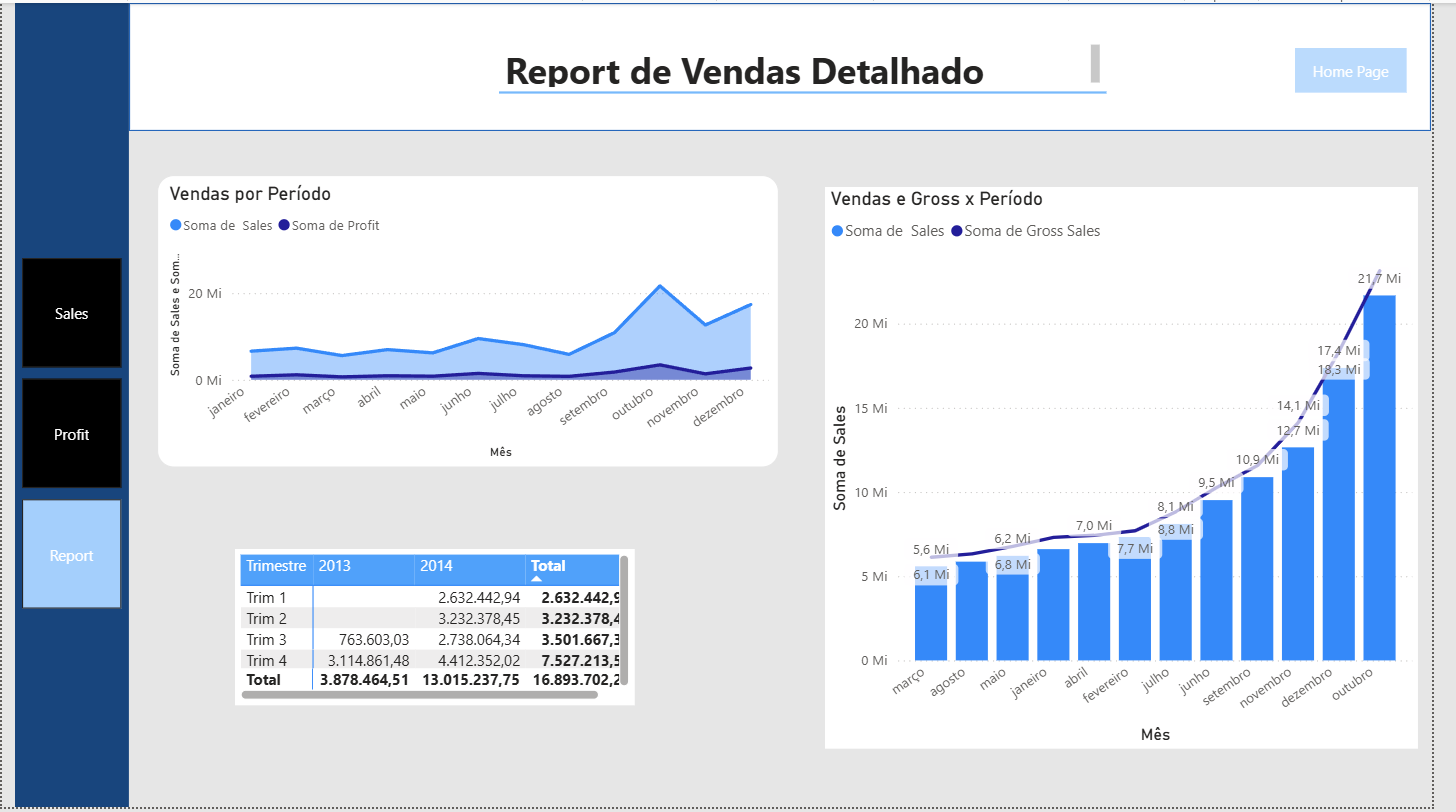

The page's visual inventory and layout, read from the dashboard file:
{"tool":"powerbi","page":{"name":"Report","canvas":[1280,720],"ordinal":2},"visuals":[{"type":"shape","box":[113.7,0,1166,114.6],"z":0},{"type":"shape","box":[445.1,63.6,544.5,33.1],"z":1000},{"type":"textbox","box":[445.1,32.2,542.7,48.4],"z":3000},{"type":"actionButton","box":[1208,54.7,59.9,51.3],"z":4000},{"type":"shape","box":[11.6,0,102.1,720],"z":5000},{"type":"areaChart","title":"Vendas por Período","fields":{"Category":["financials.Date.Variation.Hierarquia de datas.Mês"],"Y":["Sum(financials. Sales)","Sum(financials.Profit)"]},"box":[138.8,154,557,262.4],"z":6000},{"type":"pivotTable","fields":{"Columns":["financials.Year"],"Rows":["financials.Date.Variation.Hierarquia de datas.Trimestre"],"Values":["Sum(financials.Profit)"]},"box":[208.7,489,358.2,139.7],"z":7000},{"type":"lineStackedColumnComboChart","title":"Vendas e Gross x Período","fields":{"Category":["financials.Date.Variation.Hierarquia de datas.Mês"],"Y":["Sum(financials. Sales)"],"Y2":["Sum(financials.Gross Sales)"]},"box":[737,164.8,531,503.3],"z":8000},{"type":"actionButton","box":[1157.9,40.3,100,40],"z":9000},{"type":"pageNavigator","box":[17.9,228.4,89.6,314.3],"z":10000}]}

Visuals, with their boxes on the page's 1280x720 design canvas (x1, y1, x2, y2). These are canvas units, not pixel positions in the 1456x812 screenshot, which may show the page scaled, cropped or inside an application window:
shape: 114:0:1280:115
shape: 445:64:990:97
textbox: 445:32:988:81
actionButton: 1208:55:1268:106
shape: 12:0:114:720
"Vendas por Período" areaChart: 139:154:696:416
pivotTable - financials.Year x financials.Date.Variation.Hierarquia de datas.Trimestre: 209:489:567:629
"Vendas e Gross x Período" lineStackedColumnComboChart: 737:165:1268:668
actionButton: 1158:40:1258:80
pageNavigator: 18:228:108:543
